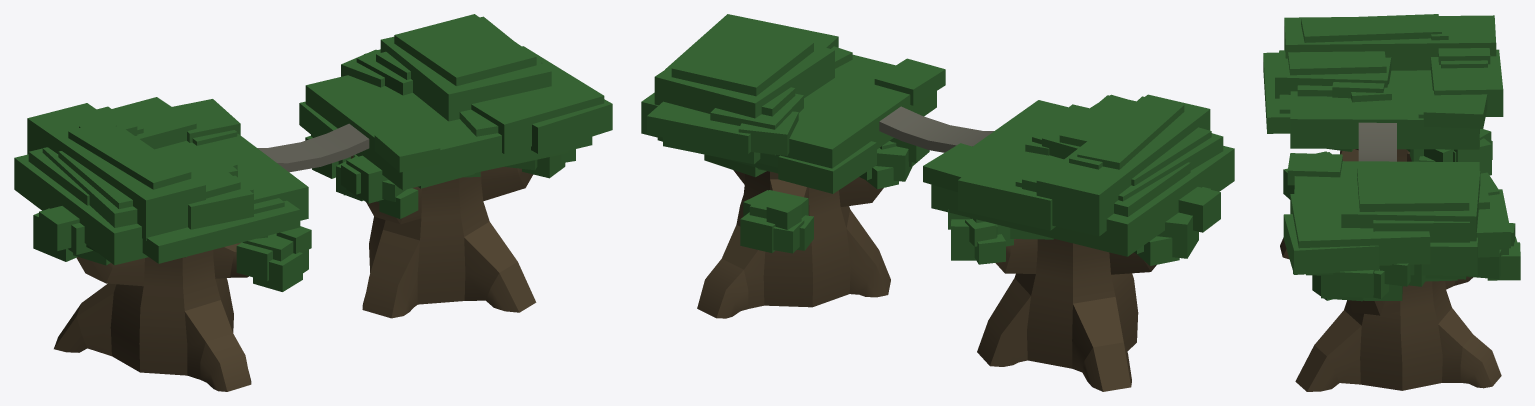
File: TaleOfTwoTreesArena.fbx
3 renders of one model, left to right at view 1: azimuth 30°, elevation 25°; view 2: azimuth 150°, elevation 25°; view 3: azimuth 270°, elevation 25°, orthographic. The views are drawn at different scales.
Parts seen in each view (by area): view 1: Tree_1_Leaves22 (×2), Trunk_geo, Trunk_geo1, Tree_1_Leaves21 (×2), Tree_1_Leaves23 (×2), Tree_1_Leaves35, Tree_1_Leaves24, Tree_1_Leaves42, Tree_1_Leaves20 (×2), Bridge_geo, Tree_1_Leaves34, Tree_1_Leaves40 (+17 smaller); view 2: Tree_1_Leaves22 (×2), Trunk_geo, Trunk_geo1, Tree_1_Leaves21 (×2), Tree_1_Leaves23 (×2), Tree_1_Leaves35, Tree_1_Leaves42, Tree_1_Leaves24, Bridge_geo, Tree_1_Leaves37, Tree_1_Leaves20 (×2), Tree_1_Leaves1 (×2) (+19 smaller); view 3: Trunk_geo1, Tree_1_Leaves22 (×2), Tree_1_Leaves21 (×2), Tree_1_Leaves23 (×2), Tree_1_Leaves35, Tree_1_Leaves42, Tree_1_Leaves24 (×2), Tree_1_Leaves34, Tree_1_Leaves39, Tree_1_Leaves41, Tree_1_Leaves20 (×2), Tree_1_Leaves33 (+17 smaller).
Boxes of the visible parts, x1=… form: Tree_1_Leaves22 (×2): x1=14, y1=75, x2=592, y2=265; Trunk_geo: x1=54, y1=242, x2=251, y2=391; Trunk_geo1: x1=351, y1=156, x2=536, y2=318; Tree_1_Leaves21 (×2): x1=27, y1=16, x2=551, y2=240; Tree_1_Leaves23 (×2): x1=112, y1=46, x2=604, y2=153; Tree_1_Leaves35: x1=394, y1=14, x2=536, y2=86; Tree_1_Leaves24: x1=142, y1=200, x2=300, y2=263; Tree_1_Leaves42: x1=68, y1=120, x2=191, y2=189; Tree_1_Leaves20 (×2): x1=188, y1=51, x2=412, y2=229; Bridge_geo: x1=257, y1=123, x2=369, y2=172; Tree_1_Leaves34: x1=531, y1=99, x2=612, y2=153; Tree_1_Leaves40: x1=374, y1=127, x2=440, y2=172; Tree_1_Leaves22 (×2): x1=641, y1=54, x2=1234, y2=256; Trunk_geo: x1=977, y1=238, x2=1156, y2=391; Trunk_geo1: x1=697, y1=170, x2=890, y2=318; Tree_1_Leaves21 (×2): x1=654, y1=23, x2=1210, y2=236; Tree_1_Leaves23 (×2): x1=665, y1=14, x2=1055, y2=230; Tree_1_Leaves35: x1=671, y1=23, x2=813, y2=96; Tree_1_Leaves42: x1=1077, y1=96, x2=1184, y2=169; Tree_1_Leaves24: x1=647, y1=101, x2=750, y2=153; Bridge_geo: x1=879, y1=106, x2=993, y2=152; Tree_1_Leaves37: x1=778, y1=141, x2=876, y2=193; Tree_1_Leaves20 (×2): x1=710, y1=93, x2=1126, y2=159; Tree_1_Leaves1 (×2): x1=876, y1=146, x2=1198, y2=258; Trunk_geo1: x1=1295, y1=276, x2=1501, y2=391; Tree_1_Leaves22 (×2): x1=1290, y1=70, x2=1479, y2=275; Tree_1_Leaves21 (×2): x1=1284, y1=15, x2=1496, y2=241; Tree_1_Leaves23 (×2): x1=1290, y1=49, x2=1503, y2=265; Tree_1_Leaves35: x1=1357, y1=166, x2=1469, y2=211; Tree_1_Leaves42: x1=1301, y1=14, x2=1441, y2=42; Tree_1_Leaves24 (×2): x1=1263, y1=52, x2=1510, y2=249; Tree_1_Leaves34: x1=1283, y1=214, x2=1378, y2=274; Tree_1_Leaves39: x1=1288, y1=51, x2=1386, y2=75; Tree_1_Leaves41: x1=1423, y1=90, x2=1487, y2=128; Tree_1_Leaves20 (×2): x1=1275, y1=50, x2=1489, y2=209; Tree_1_Leaves33: x1=1373, y1=220, x2=1469, y2=242.
Bounding box in the file's own units: 4270 × 1717 × 1977.
